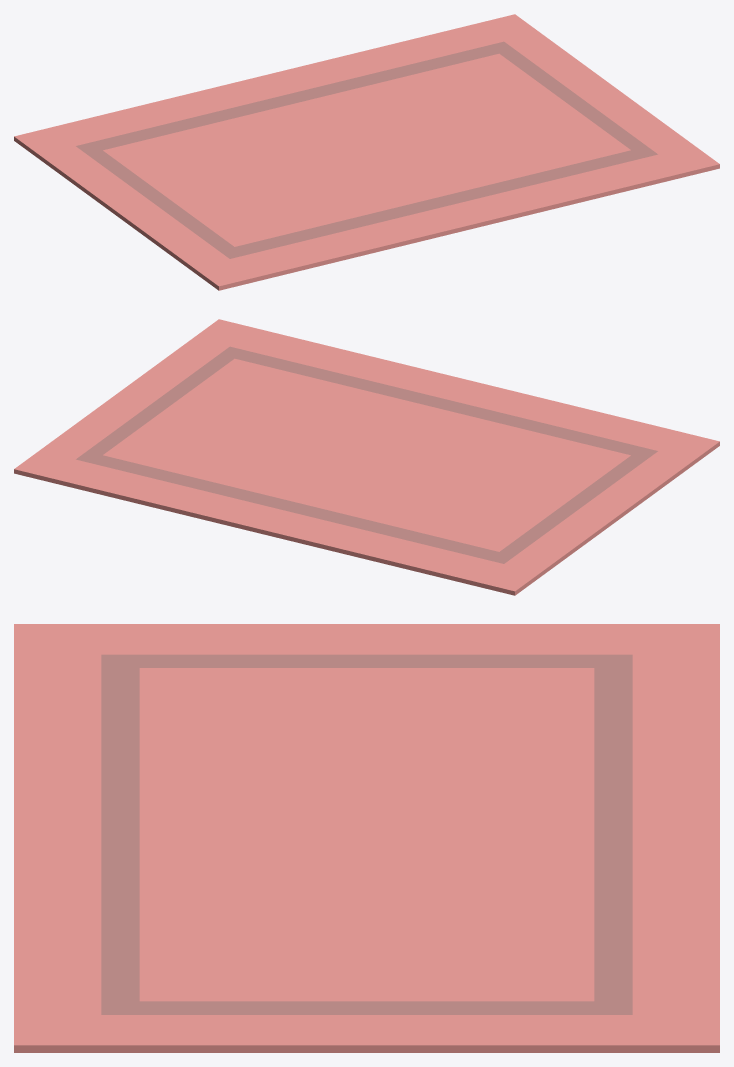
Rendered from kk-rugRectangle.glb.
3 views of the same model, one above another, from view 1: azimuth 30°, elevation 25°; view 2: azimuth 150°, elevation 25°; view 3: azimuth 270°, elevation 25° (orthographic). The views are drawn at different scales.
Visible parts, largest first — view 1: rugRectangle(Clone); view 2: rugRectangle(Clone); view 3: rugRectangle(Clone).
Part boxes in pixels (x1,y1,x2,y2): rugRectangle(Clone): (14, 14, 719, 290); rugRectangle(Clone): (14, 319, 719, 595); rugRectangle(Clone): (14, 624, 719, 1052).
Bounding box in the file's own units: 1 × 0.0083 × 0.7083.
